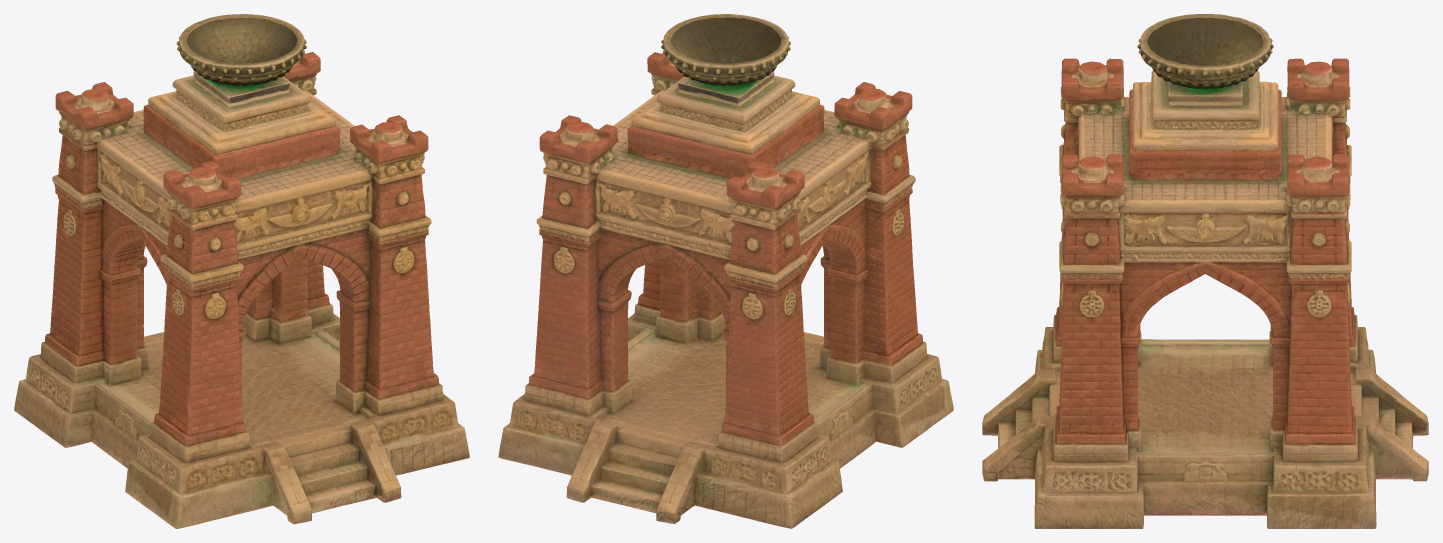
File: FireAltar.glb
3 views of the same model, side by side, from view 1: azimuth 30°, elevation 25°; view 2: azimuth 150°, elevation 25°; view 3: azimuth 270°, elevation 25° (orthographic). The views are drawn at different scales.
Size of the model in its own units: 1.48 by 1.9 by 1.86.
1 material, 1 textured.
